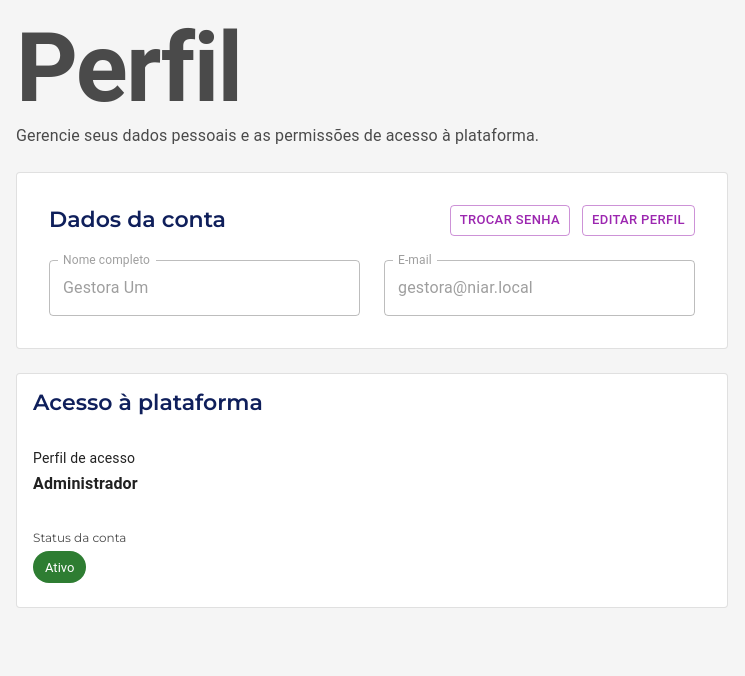
Test: Perfil — edição, senha e download › cancelar volta para readonly sem tocar no authSlice
This screenshot has width=745, height=676.
Click the button "Editar perfil".
click(638, 220)  # box [582, 205, 695, 236]
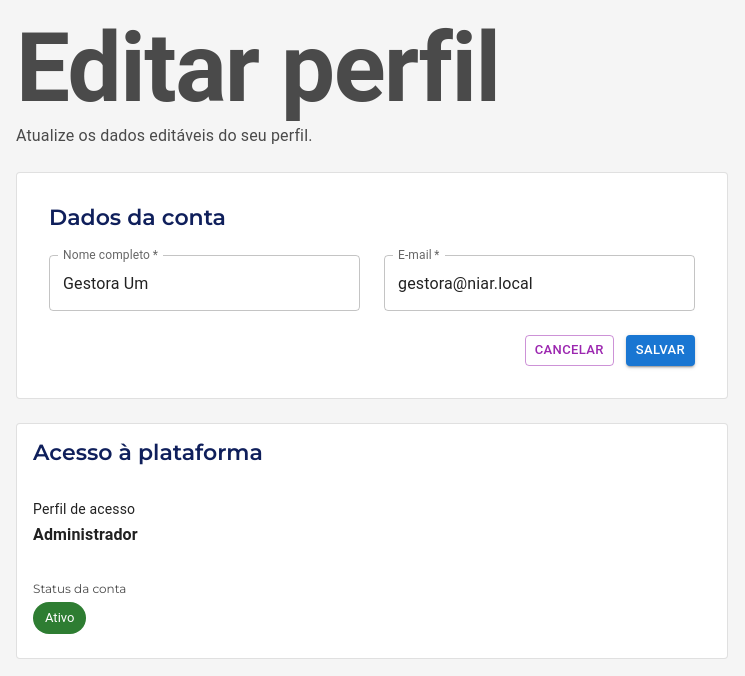
Replace the text in the field labelled "Nome completo" with "Rascunho" at point(204, 283), box [49, 255, 360, 311]
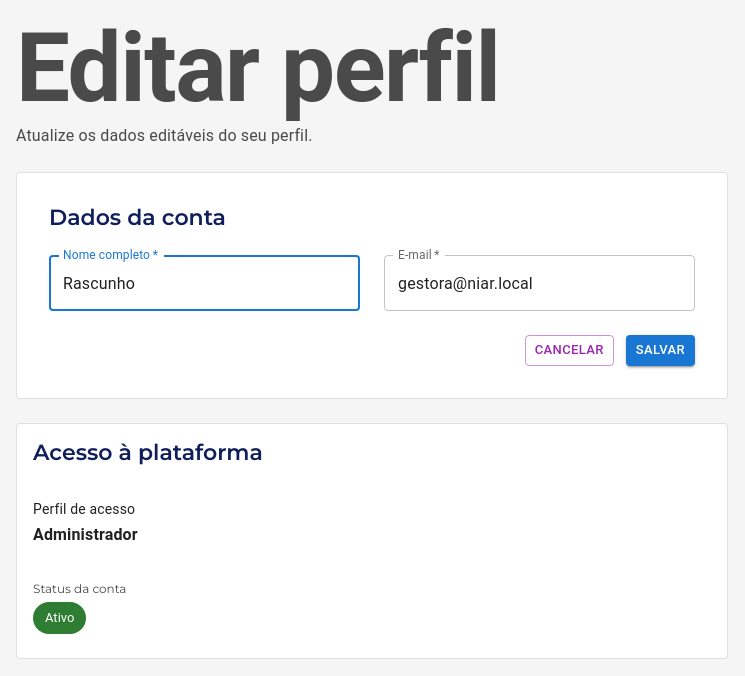
Click the button "Cancelar".
click(569, 351)  # box [525, 335, 614, 366]
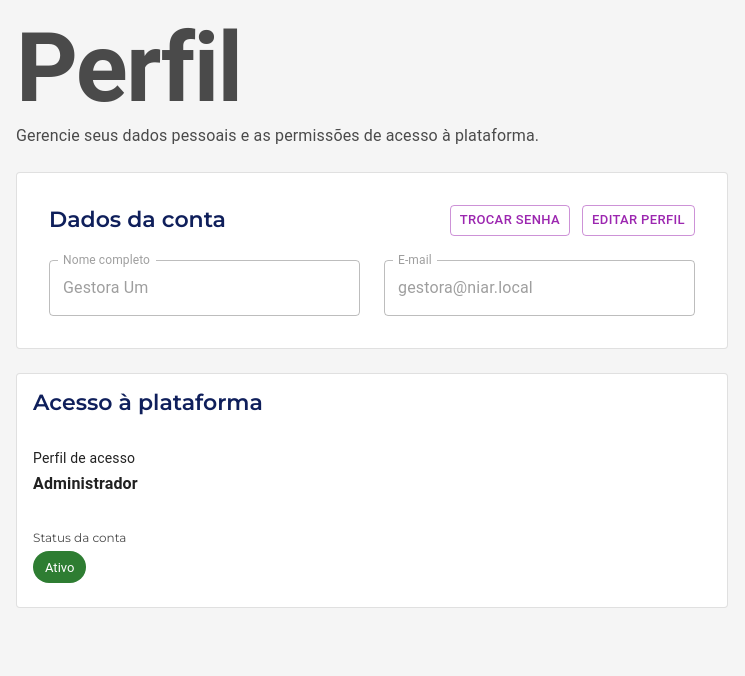
expect the field labelled "Nome completo" is disabled: met, box [49, 260, 360, 316]
